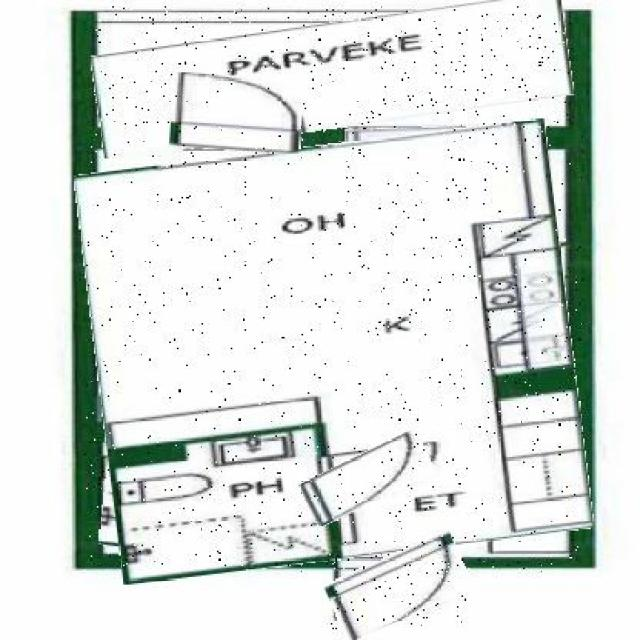door: (85, 132, 583, 572), (94, 6, 571, 143), (103, 420, 312, 563)
window: (326, 542, 469, 629), (171, 76, 303, 152), (301, 441, 434, 514)
zone: (345, 124, 540, 150)
